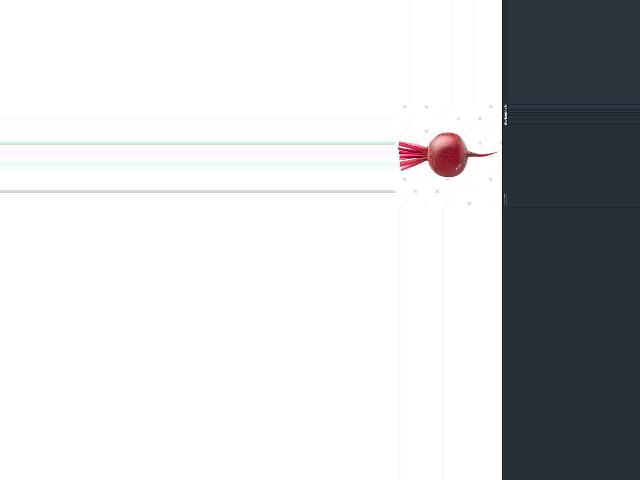beet: (398, 133, 499, 177)
